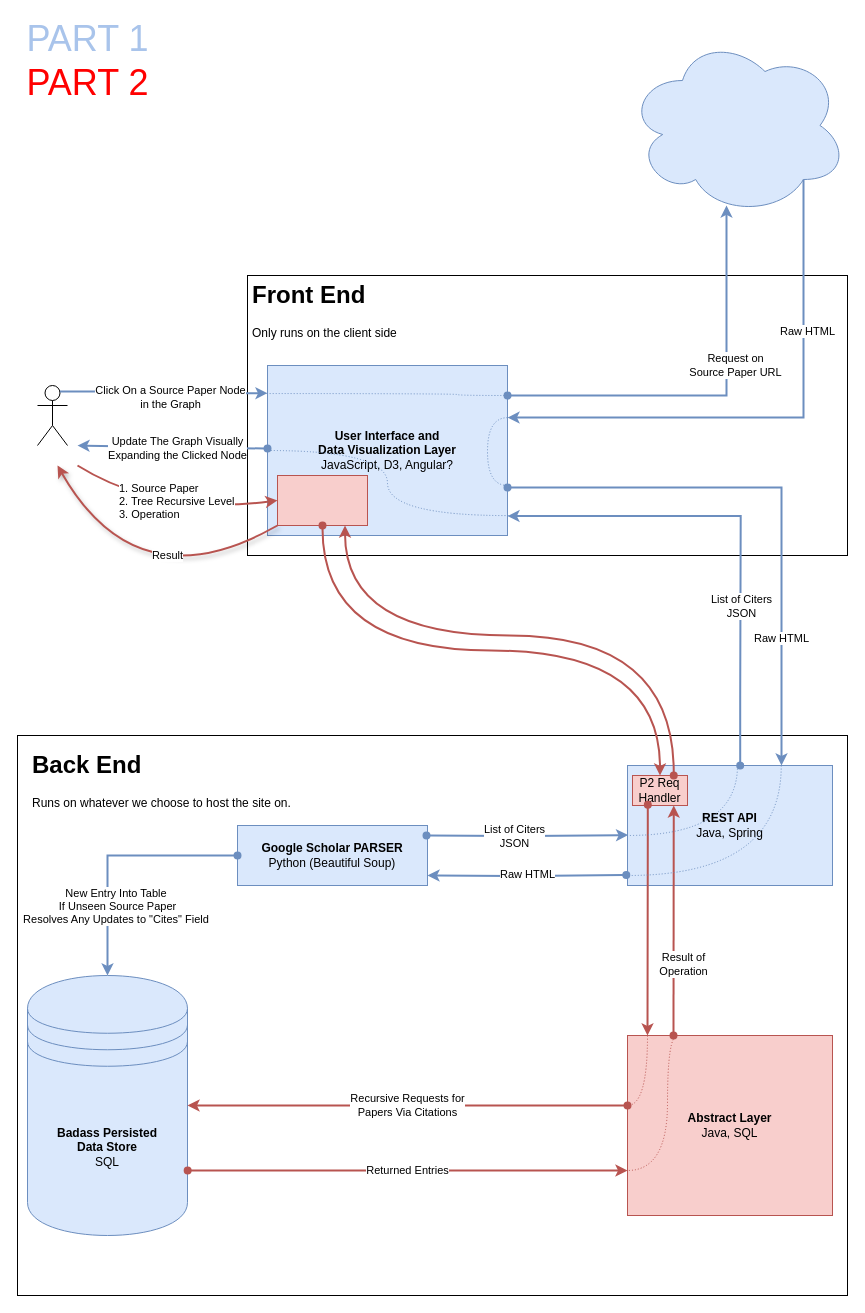
The diagram is 865 pixels wide and 1313 high, and some of its shapes have lost their labels. Each missing label, with the centre of its shape:
"Google Scholar" belongs at pixel 737 125.
"Part 2 Handler" belongs at pixel 322 500.
"User" belongs at pixel 52 415.
